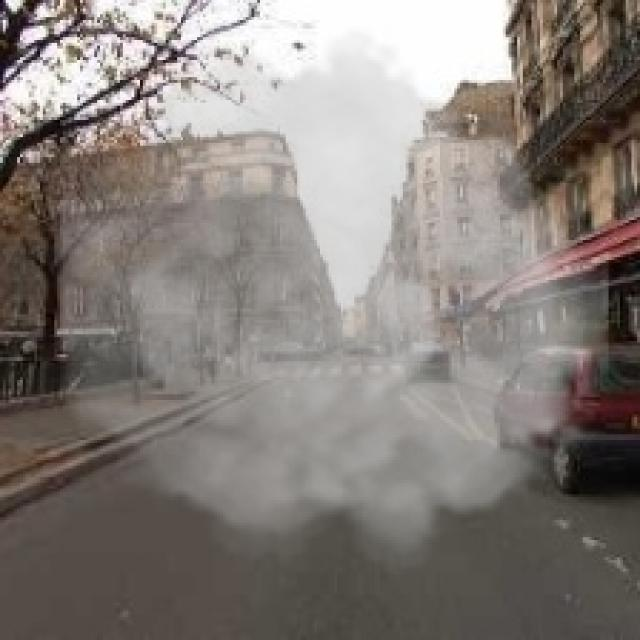smoke: (60, 26, 609, 574)
